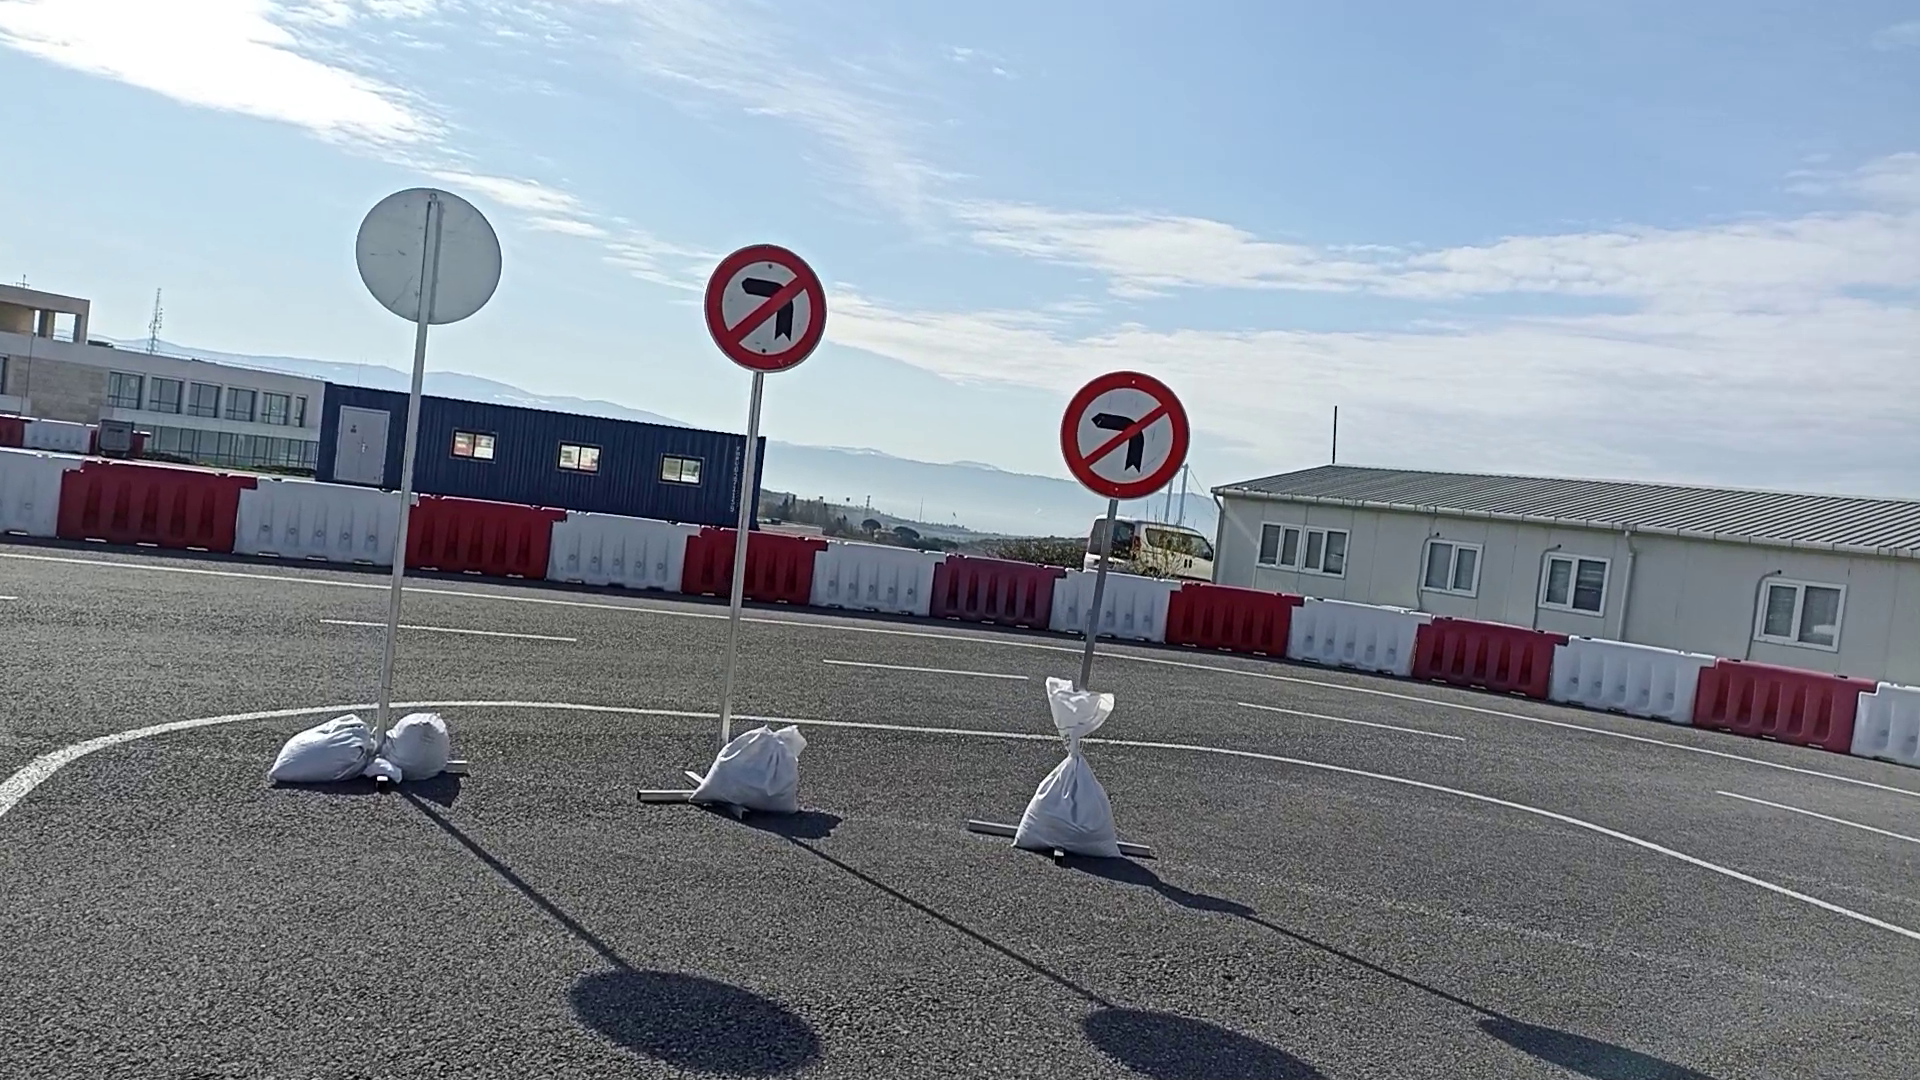noleft: (1058, 368, 1193, 502), (702, 241, 831, 376)
